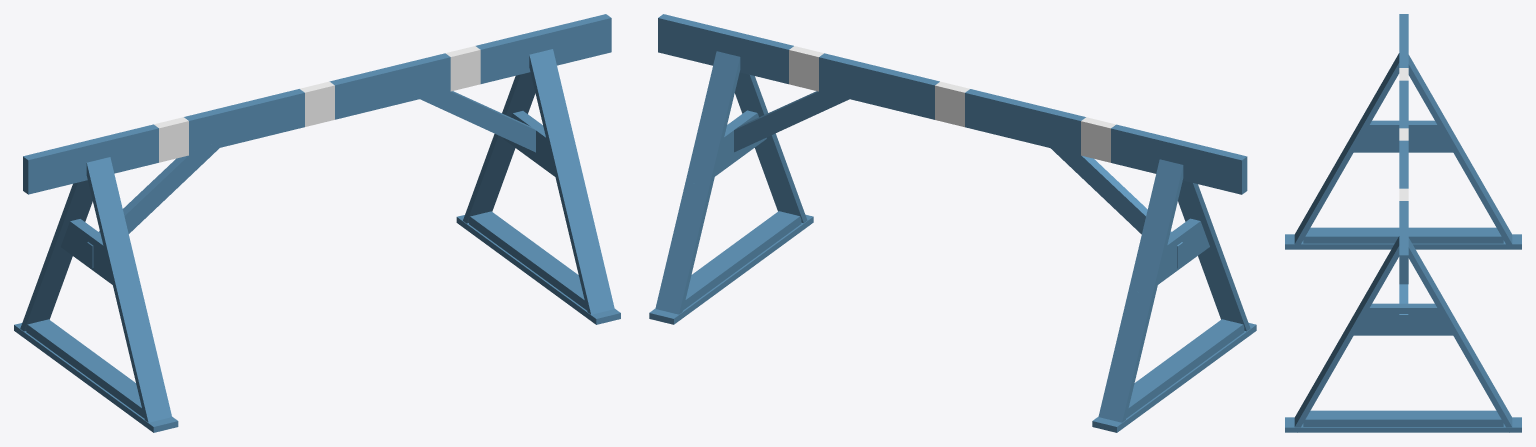
File: SM_barrier_police.fbx
The picture shows the model from 3 angles, left to right: view 1: azimuth 30°, elevation 25°; view 2: azimuth 150°, elevation 25°; view 3: azimuth 270°, elevation 25°; orthographic projection. The views are drawn at different scales.
Parts seen in each view (by area): view 1: Object32297; view 2: Object32297; view 3: Object32297.
Part boxes in pixels (x1,y1,x2,y2): Object32297: (14, 14, 620, 432); Object32297: (649, 14, 1256, 432); Object32297: (1285, 14, 1521, 432).
Bounding box in the file's own units: 113 × 44.17 × 46.93.
